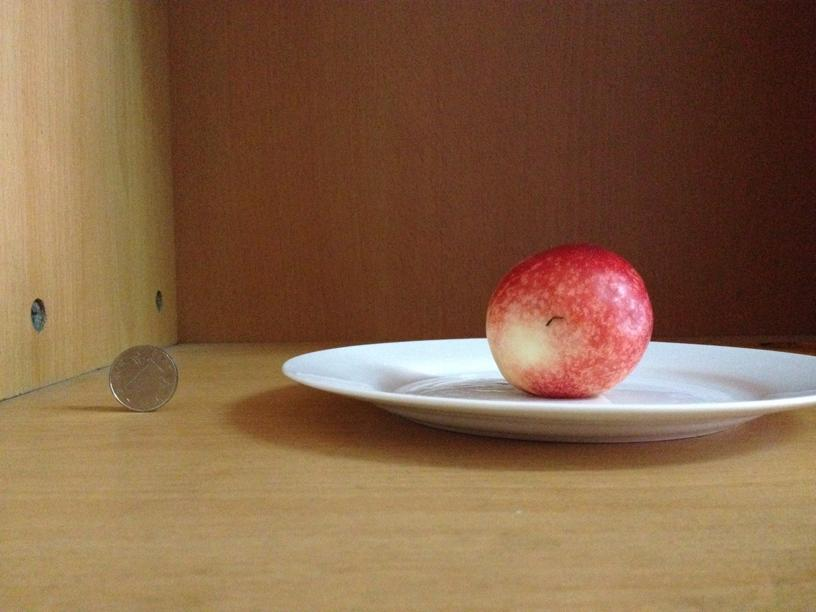coin: (104, 344, 178, 411)
peach: (484, 247, 652, 397)
